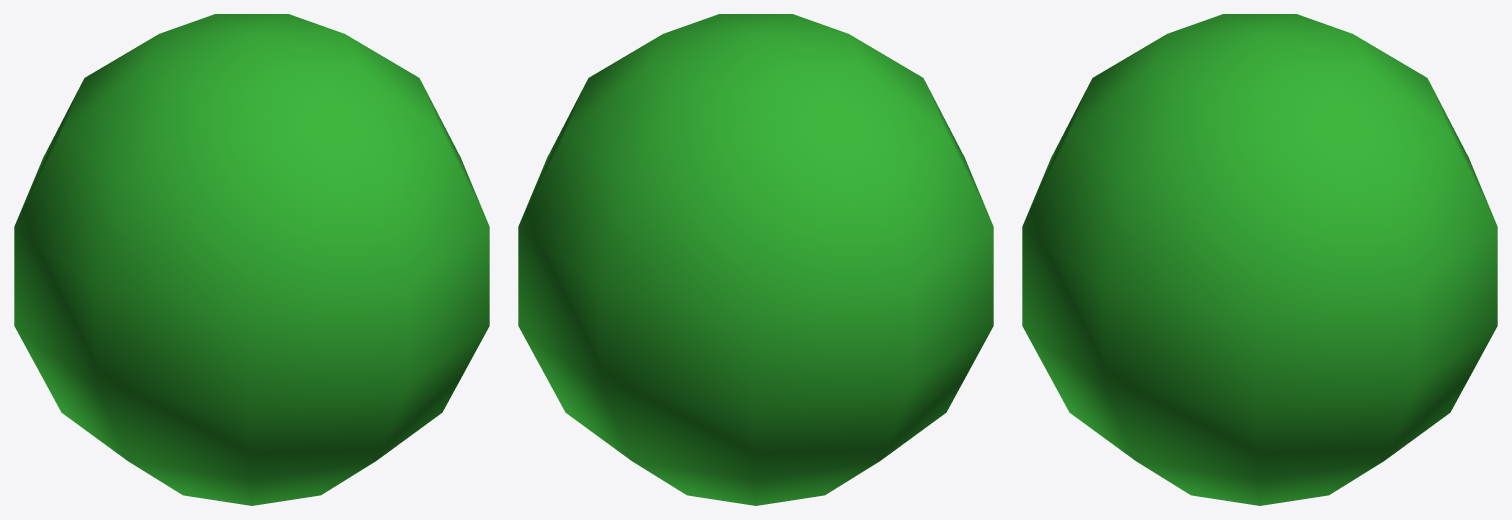
File: florabelha_stage1.obj
3 renders of one model, left to right at view 1: azimuth 30°, elevation 25°; view 2: azimuth 150°, elevation 25°; view 3: azimuth 270°, elevation 25°, orthographic.
Bounding box in the file's own units: 1.32 × 1.4 × 1.34.
